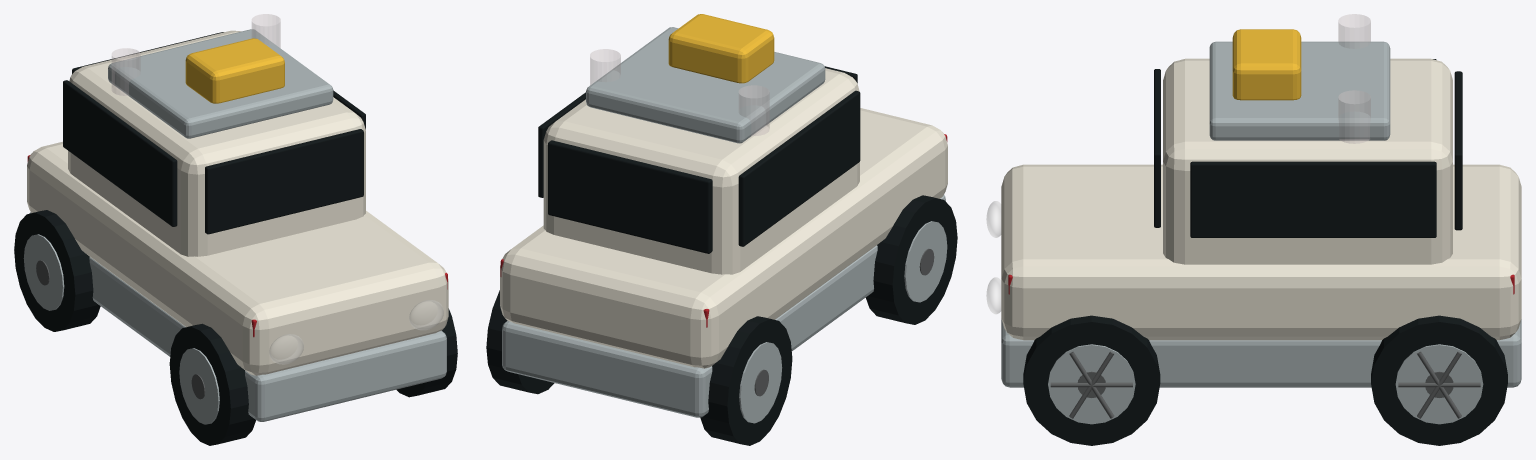
File: hiperreal-hd.glb
3 renders of one model, left to right at view 1: azimuth 30°, elevation 25°; view 2: azimuth 150°, elevation 25°; view 3: azimuth 270°, elevation 25°, orthographic. The views are drawn at different scales.
Visible parts, largest first — view 1: White body, Cabin, Car chassis, Windscreen, Roof rack, Windows, Tyre.002, Tyre, Equipment, Rim, Rim.002, Tyre.003 (+4 smaller); view 2: White body, Cabin, Car chassis, Roof rack, Rear window, Windows, Tyre, Tyre.002, Equipment, Rim, Rim.002, Tyre.001 (+3 smaller); view 3: White body, Cabin, Windows.001, Roof rack, Car chassis, Tyre.003, Tyre.001, Equipment, Rim.003, Rim.001, Roof beacon.001, Rear window (+2 smaller).
Part boxes in pixels (x1,y1,x2,y2): White body: (27,141,448,375); Cabin: (68,30,365,256); Car chassis: (29,212,446,421); Windscreen: (205,129,363,234); Roof rack: (108,29,333,138); Windows: (63,80,177,226); Tyre.002: (169,323,255,445); Tyre: (14,210,100,331); Equipment: (185,38,284,103); Rim: (23,234,64,310); Rim.002: (179,348,219,424); Tyre.003: (396,308,457,397); White body: (500,108,947,368); Cabin: (543,68,859,274); Car chassis: (502,195,945,417); Roof rack: (586,27,825,143); Rear window: (548,140,712,253); Windows: (738,90,860,246); Tyre: (700,316,792,445); Tyre.002: (865,195,957,324); Equipment: (668,14,774,83); Rim: (739,342,782,423); Rim.002: (904,221,947,302); Tyre.001: (486,290,554,394); White body: (1001,164,1521,340); Cabin: (1163,58,1452,264); Windows.001: (1190,161,1436,237); Roof rack: (1209,41,1390,140); Car chassis: (1001,319,1521,387); Tyre.003: (1023,315,1160,445); Tyre.001: (1371,315,1507,445); Equipment: (1232,29,1301,100); Rim.003: (1048,344,1135,424); Rim.001: (1395,344,1483,424); Roof beacon.001: (1338,90,1370,143); Rear window: (1454,71,1462,230).
Bounding box in the file's own units: 0.5486 × 0.68 × 0.9775.
